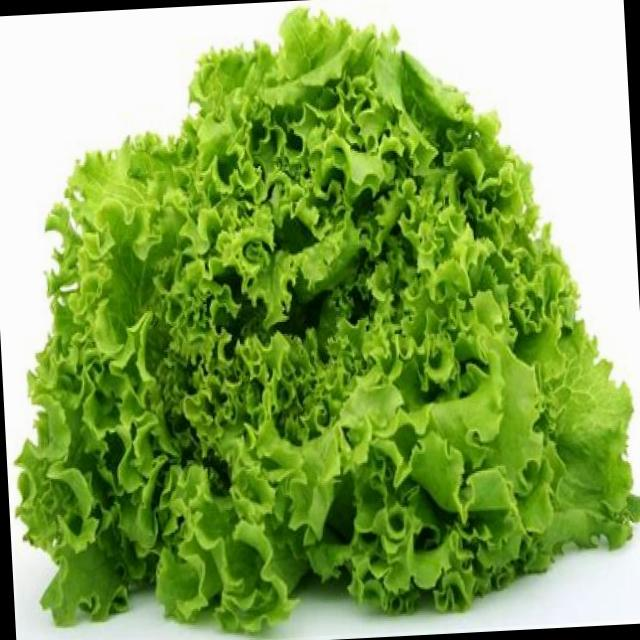Lettuce-Ready-to-Harvest: (18, 12, 640, 631)
